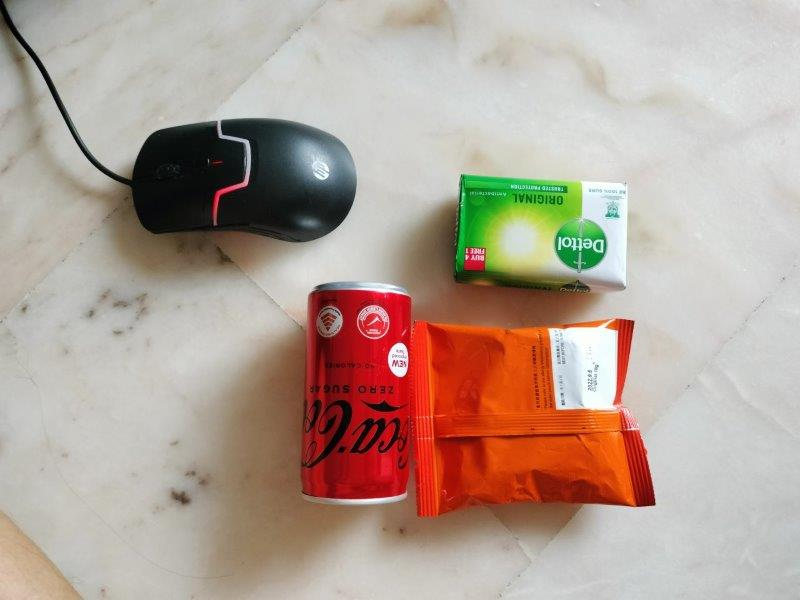Coke: (300, 280, 413, 509)
Dettol: (453, 173, 629, 297)
Jagabee: (411, 317, 657, 518)
